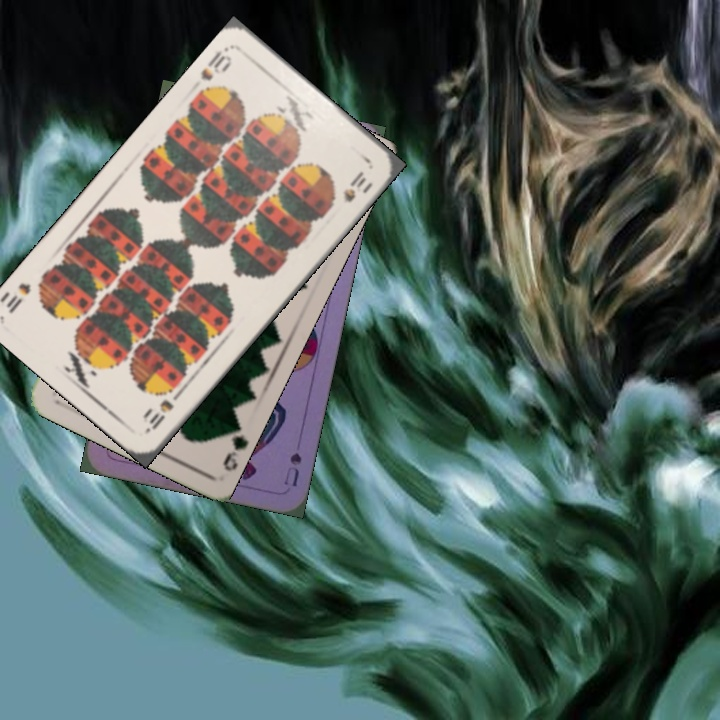G9: (219, 417, 249, 474)
S10: (141, 385, 185, 435), (196, 46, 235, 84)
SU: (280, 449, 304, 490)
